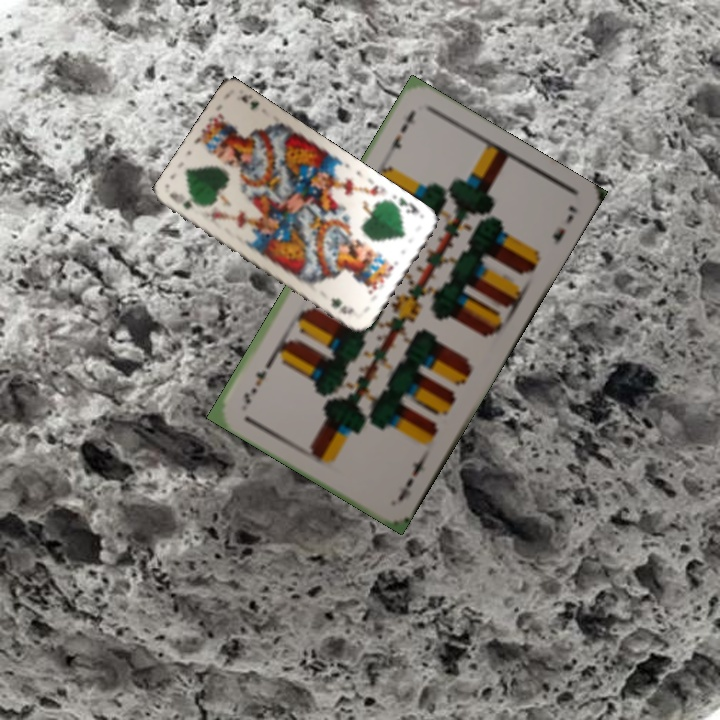E7: (393, 449, 431, 504), (382, 105, 418, 160)
GK: (387, 193, 422, 216), (166, 188, 195, 212)
